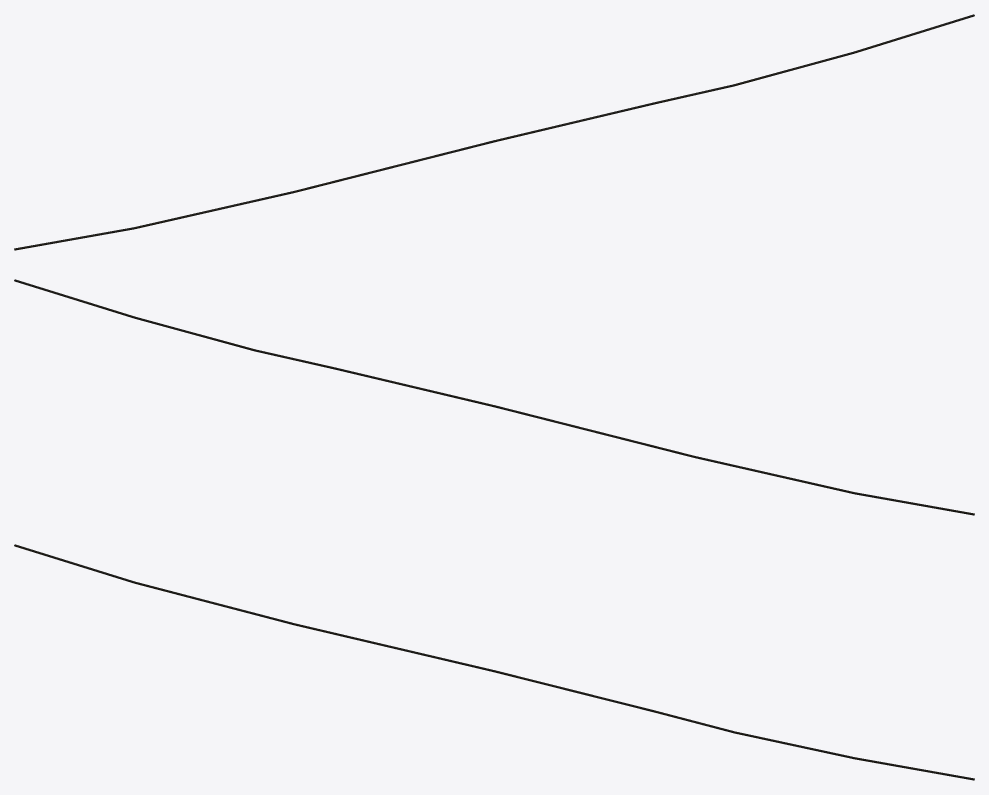
File: wire.fbx
The picture shows the model from 3 angles, top to bottom: view 1: azimuth 30°, elevation 25°; view 2: azimuth 150°, elevation 25°; view 3: azimuth 330°, elevation 25°; orthographic projection.
Parts seen in each view (by area): view 1: wire; view 2: wire; view 3: wire.
Part boxes in pixels (bbox=[...]): wire: bbox=[14, 14, 974, 250]; wire: bbox=[14, 279, 974, 515]; wire: bbox=[14, 544, 974, 780].
Bounding box in the file's own units: 3104 × 40.65 × 6.2.
